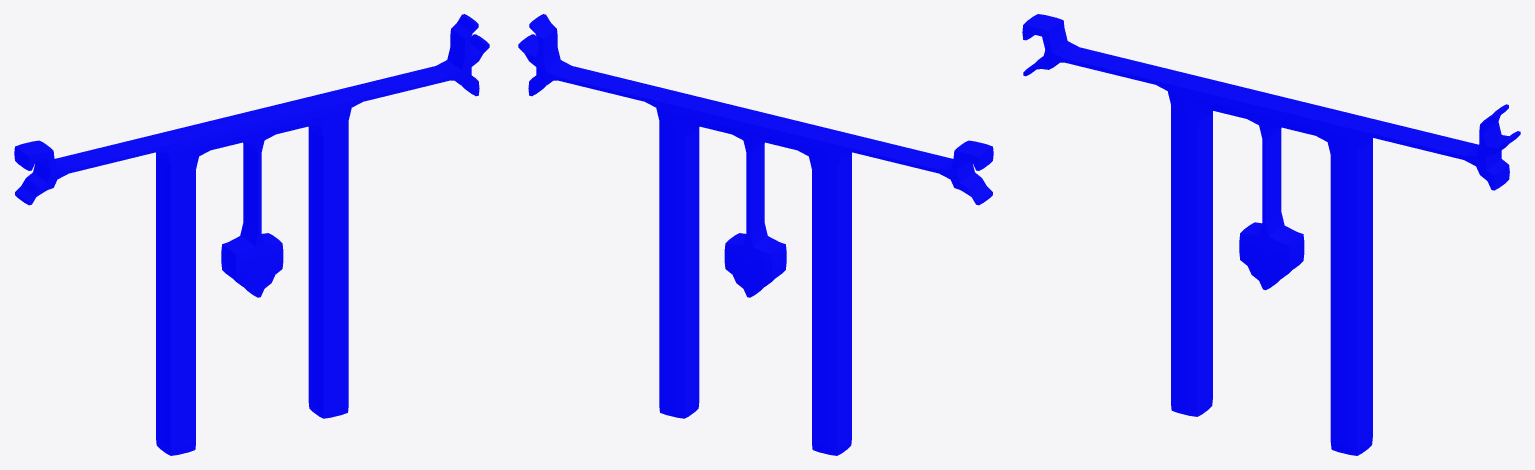
Rendered from fall1.glb.
3 renders of one model, left to right at view 1: azimuth 30°, elevation 25°; view 2: azimuth 150°, elevation 25°; view 3: azimuth 330°, elevation 25°, orthographic. The views are drawn at different scales.
Size of what is drawn, in the model's own units: 42.33 by 31.42 by 2.5.
